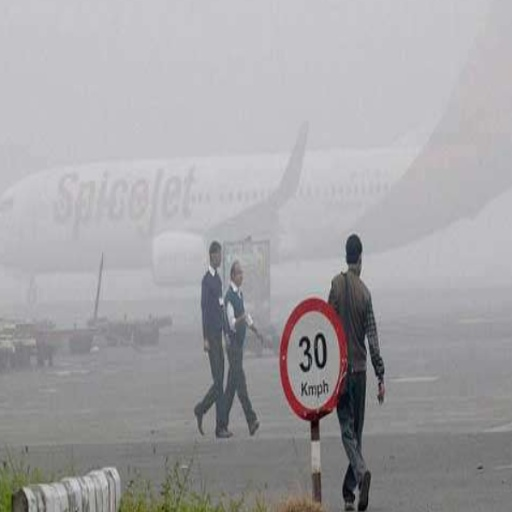Speed limit: (274, 295, 356, 422)
